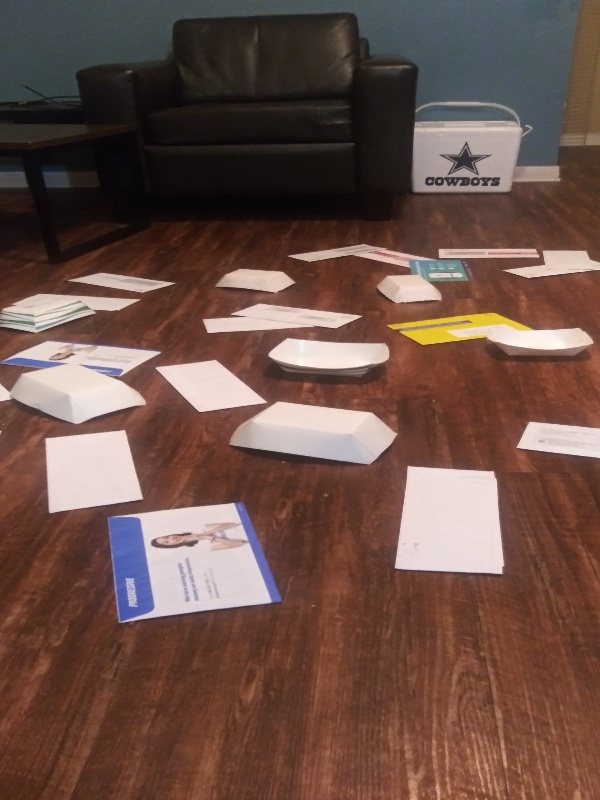plate: (224, 399, 402, 470), (6, 359, 155, 429), (265, 335, 391, 384), (480, 325, 595, 364), (1, 293, 99, 336), (375, 269, 448, 308), (212, 266, 299, 297)
